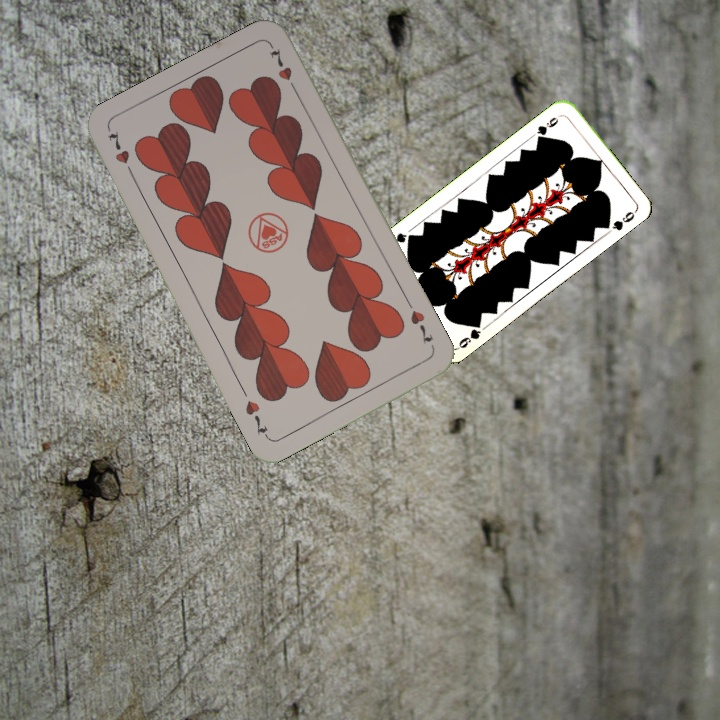G9: (454, 316, 484, 351), (533, 113, 561, 144)
H7: (103, 127, 137, 182), (406, 306, 436, 347)
